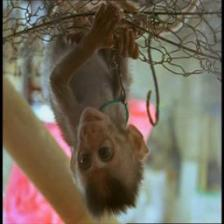monkey: (61, 88, 159, 224)
